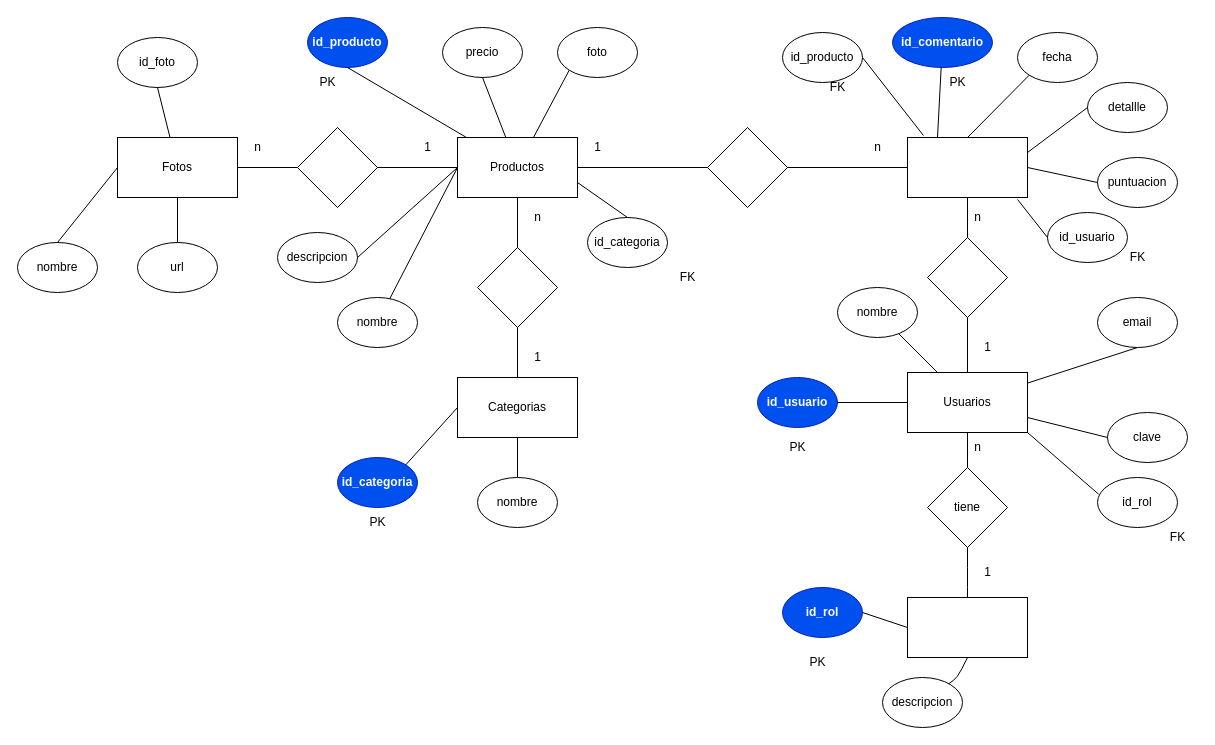
The diagram is 1215 pixels wide and 745 high, and some of its shapes have lost their labels. Each missing label, with the centre of its shape:
"Comentarios" belongs at (967,167).
"contiene" belongs at (337,167).
"Crea" belongs at (967,277).
"pertenece" belongs at (517,287).
"Recibe" belongs at (747,167).
"Roles" belongs at (967,627).
